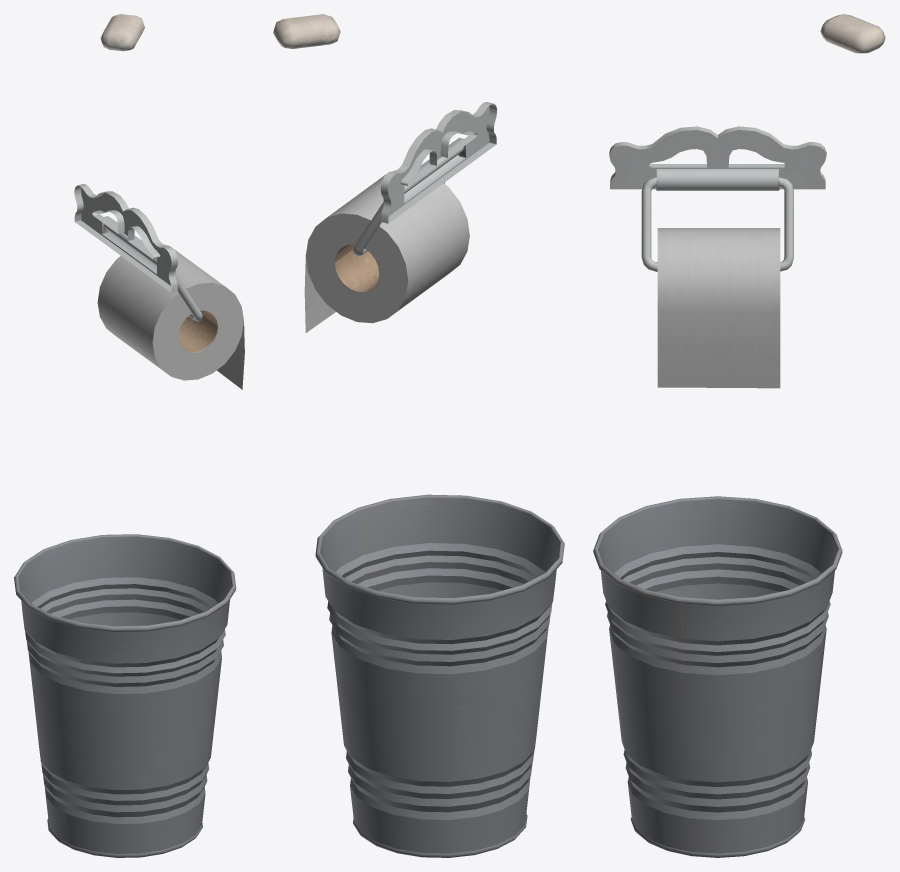
Rendered from bathroom_assets-transformed.glb.
The picture shows the model from 3 angles, left to right: view 1: azimuth 30°, elevation 25°; view 2: azimuth 150°, elevation 25°; view 3: azimuth 270°, elevation 25°; orthographic projection. The views are drawn at different scales.
Visible parts, largest first — view 1: defaultMaterial; view 2: defaultMaterial; view 3: defaultMaterial.
Boxes of the visible parts, x1=… form: defaultMaterial: x1=14, y1=14, x2=244, y2=857; defaultMaterial: x1=273, y1=14, x2=564, y2=857; defaultMaterial: x1=593, y1=14, x2=885, y2=857.
Bounding box in the file's own units: 39.33 × 145 × 46.14.
1 material, 1 textured.
